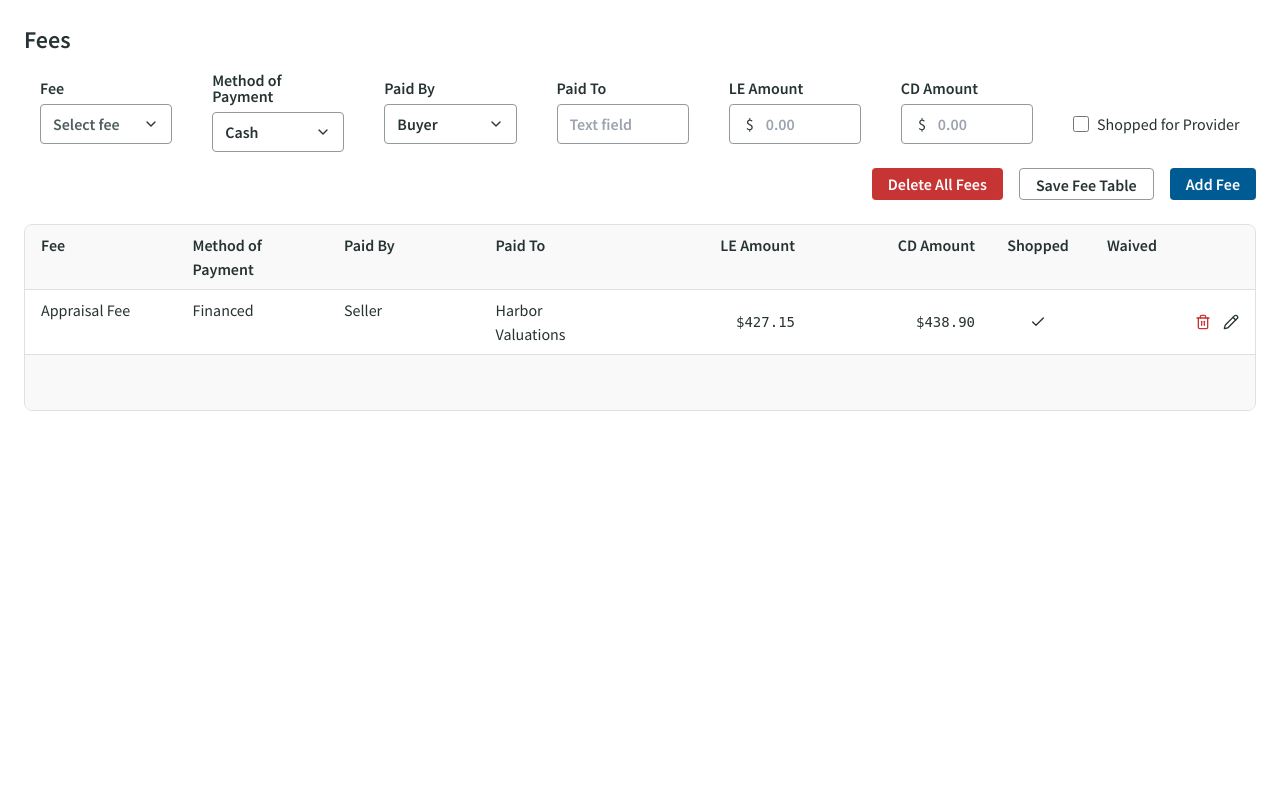
Test: FeesContent › retains the draft on flush failure and allows an explicit retry
The image size is (1280, 800).
Click the button with test id "button-edit-fee-edit-target": click(1231, 322) [1223,314,1239,330]
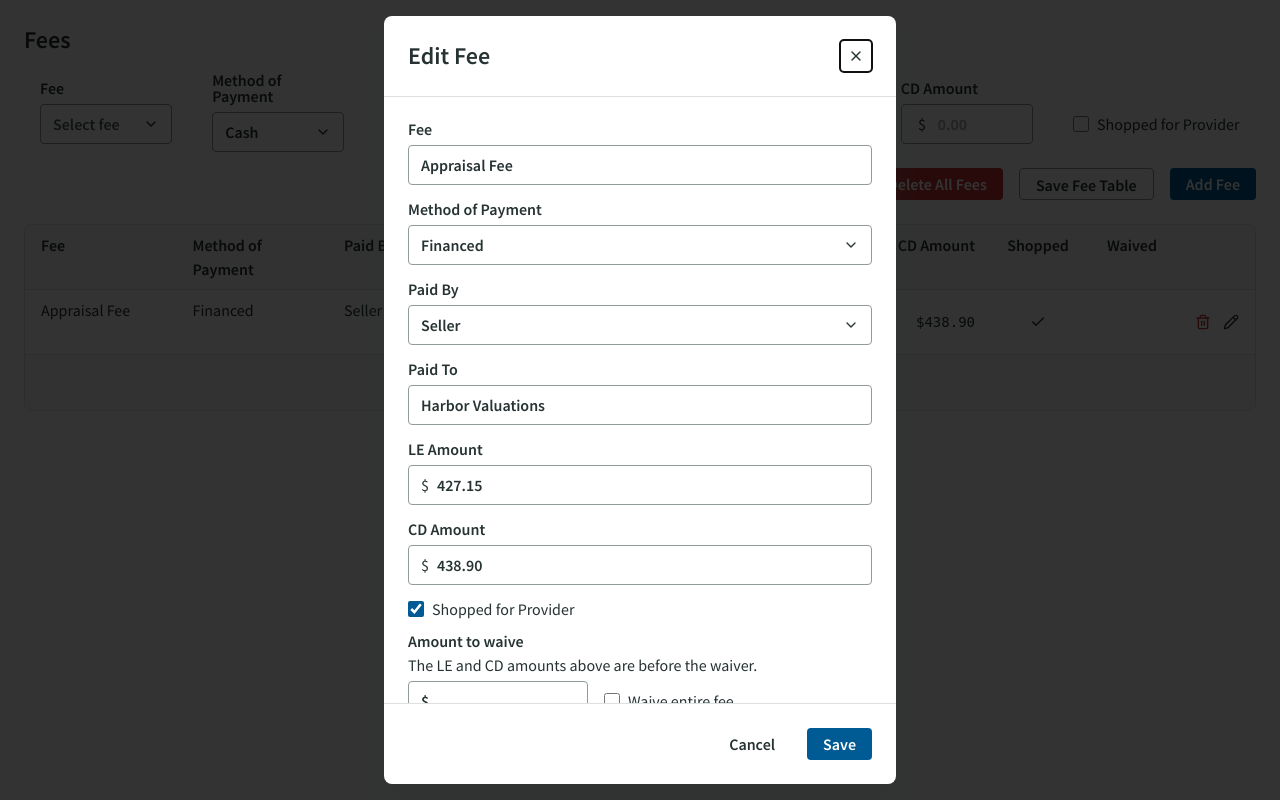
Replace the text in the field named "Paid To" with "Retry recipient": (640, 405) [408,385,872,425]
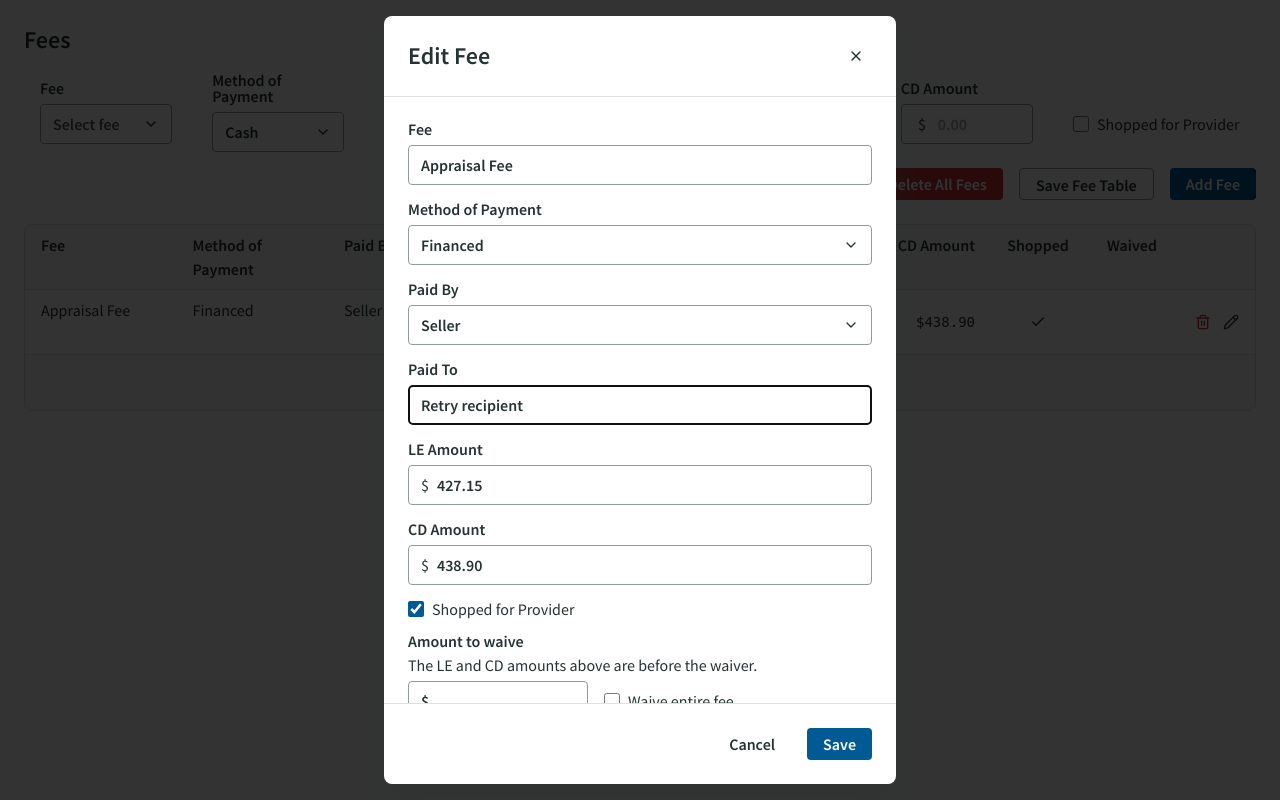
Click the button "Save": click(840, 744) [807,728,872,760]
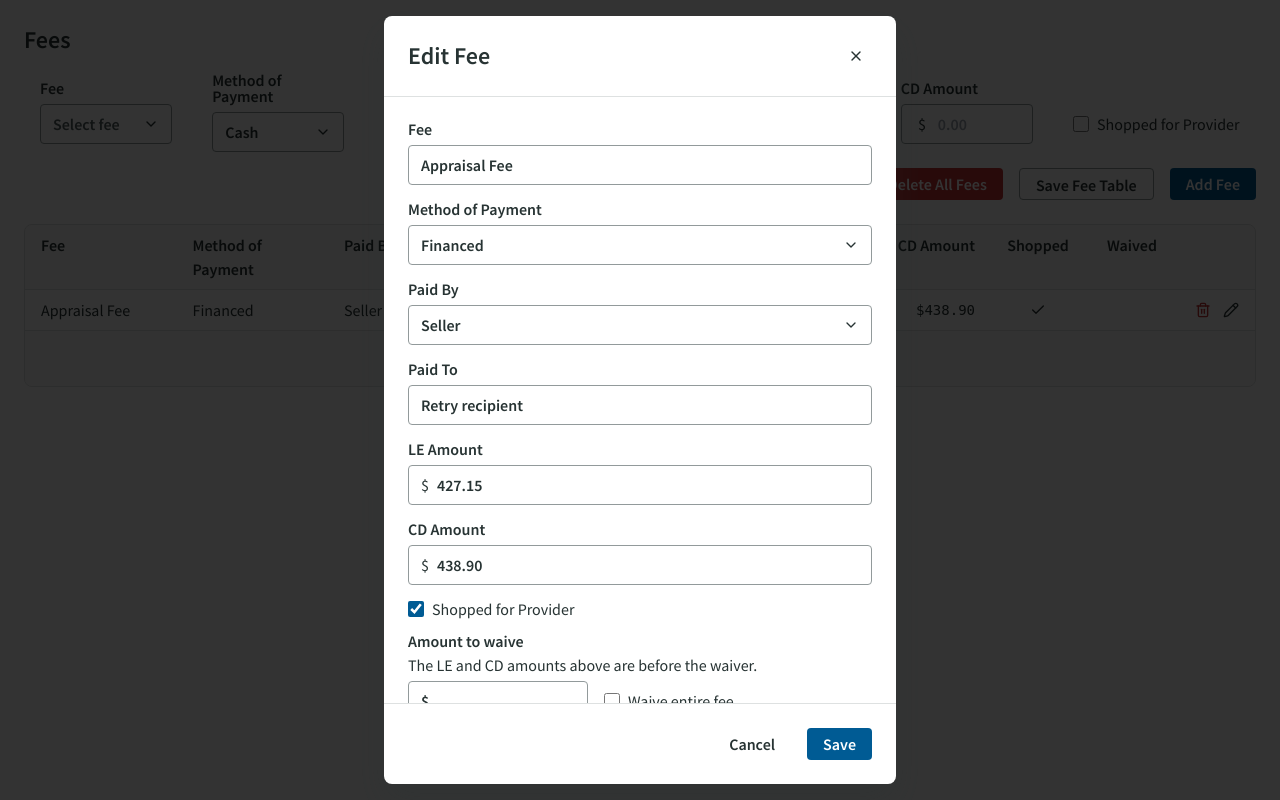
Expected: the button "Save" is enabled
Click the button "Save": click(840, 744) [807,728,872,760]
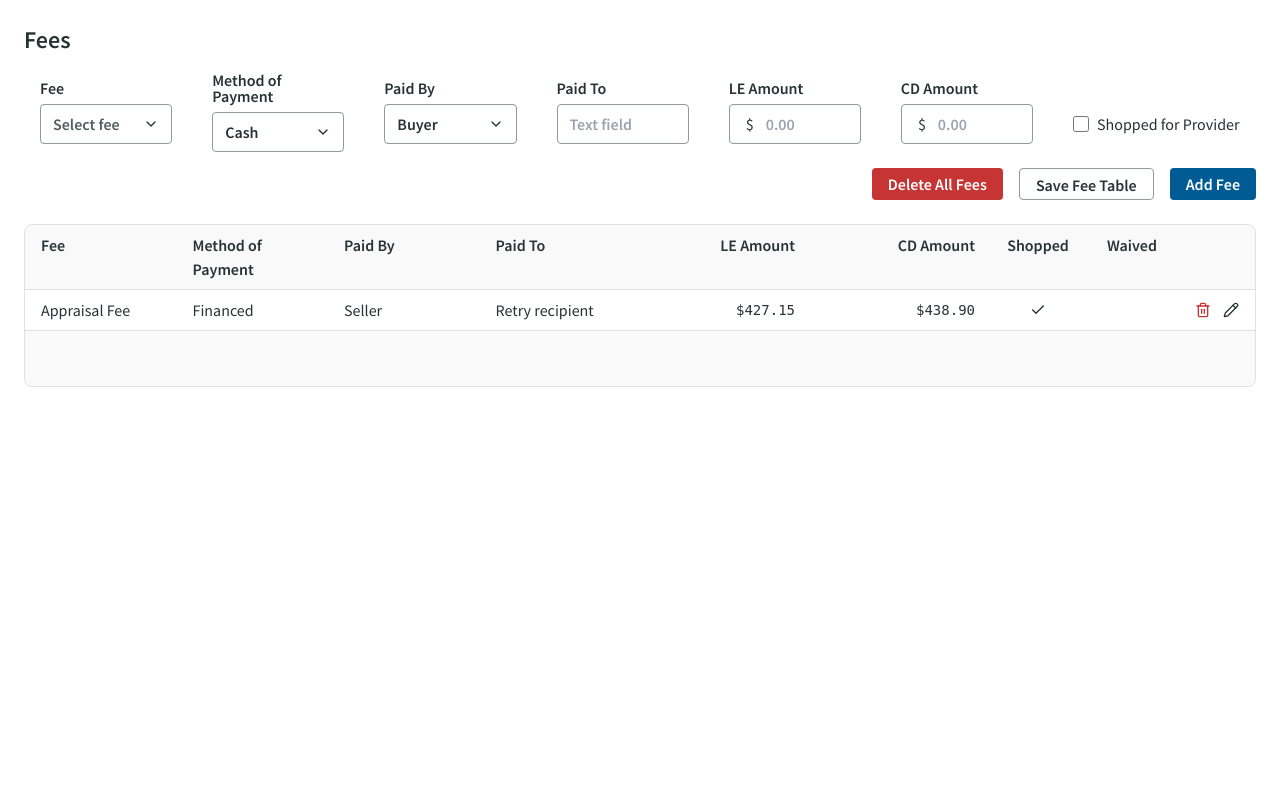
Expected: the cell "Retry recipient" is shown, [496,300,594,320]
Expected: the dialog is gone
